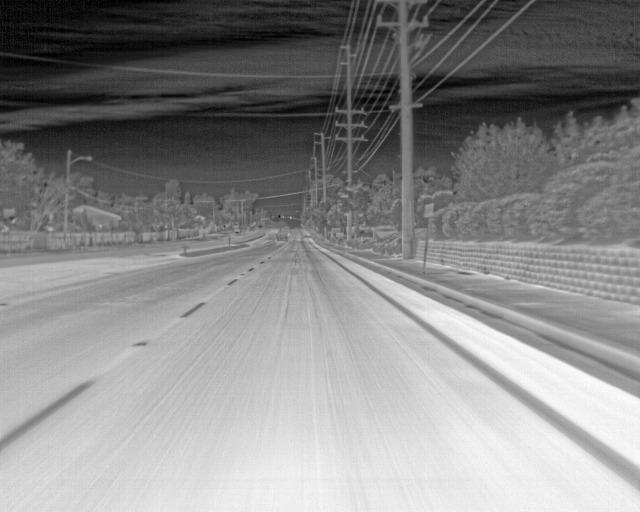car: (277, 231, 288, 241), (234, 229, 241, 235)
light: (290, 216, 292, 219), (283, 216, 284, 219), (281, 215, 282, 218), (273, 216, 274, 219)
sign: (424, 203, 434, 217), (4, 209, 15, 215), (336, 232, 344, 237), (182, 245, 189, 248), (278, 215, 280, 218)
